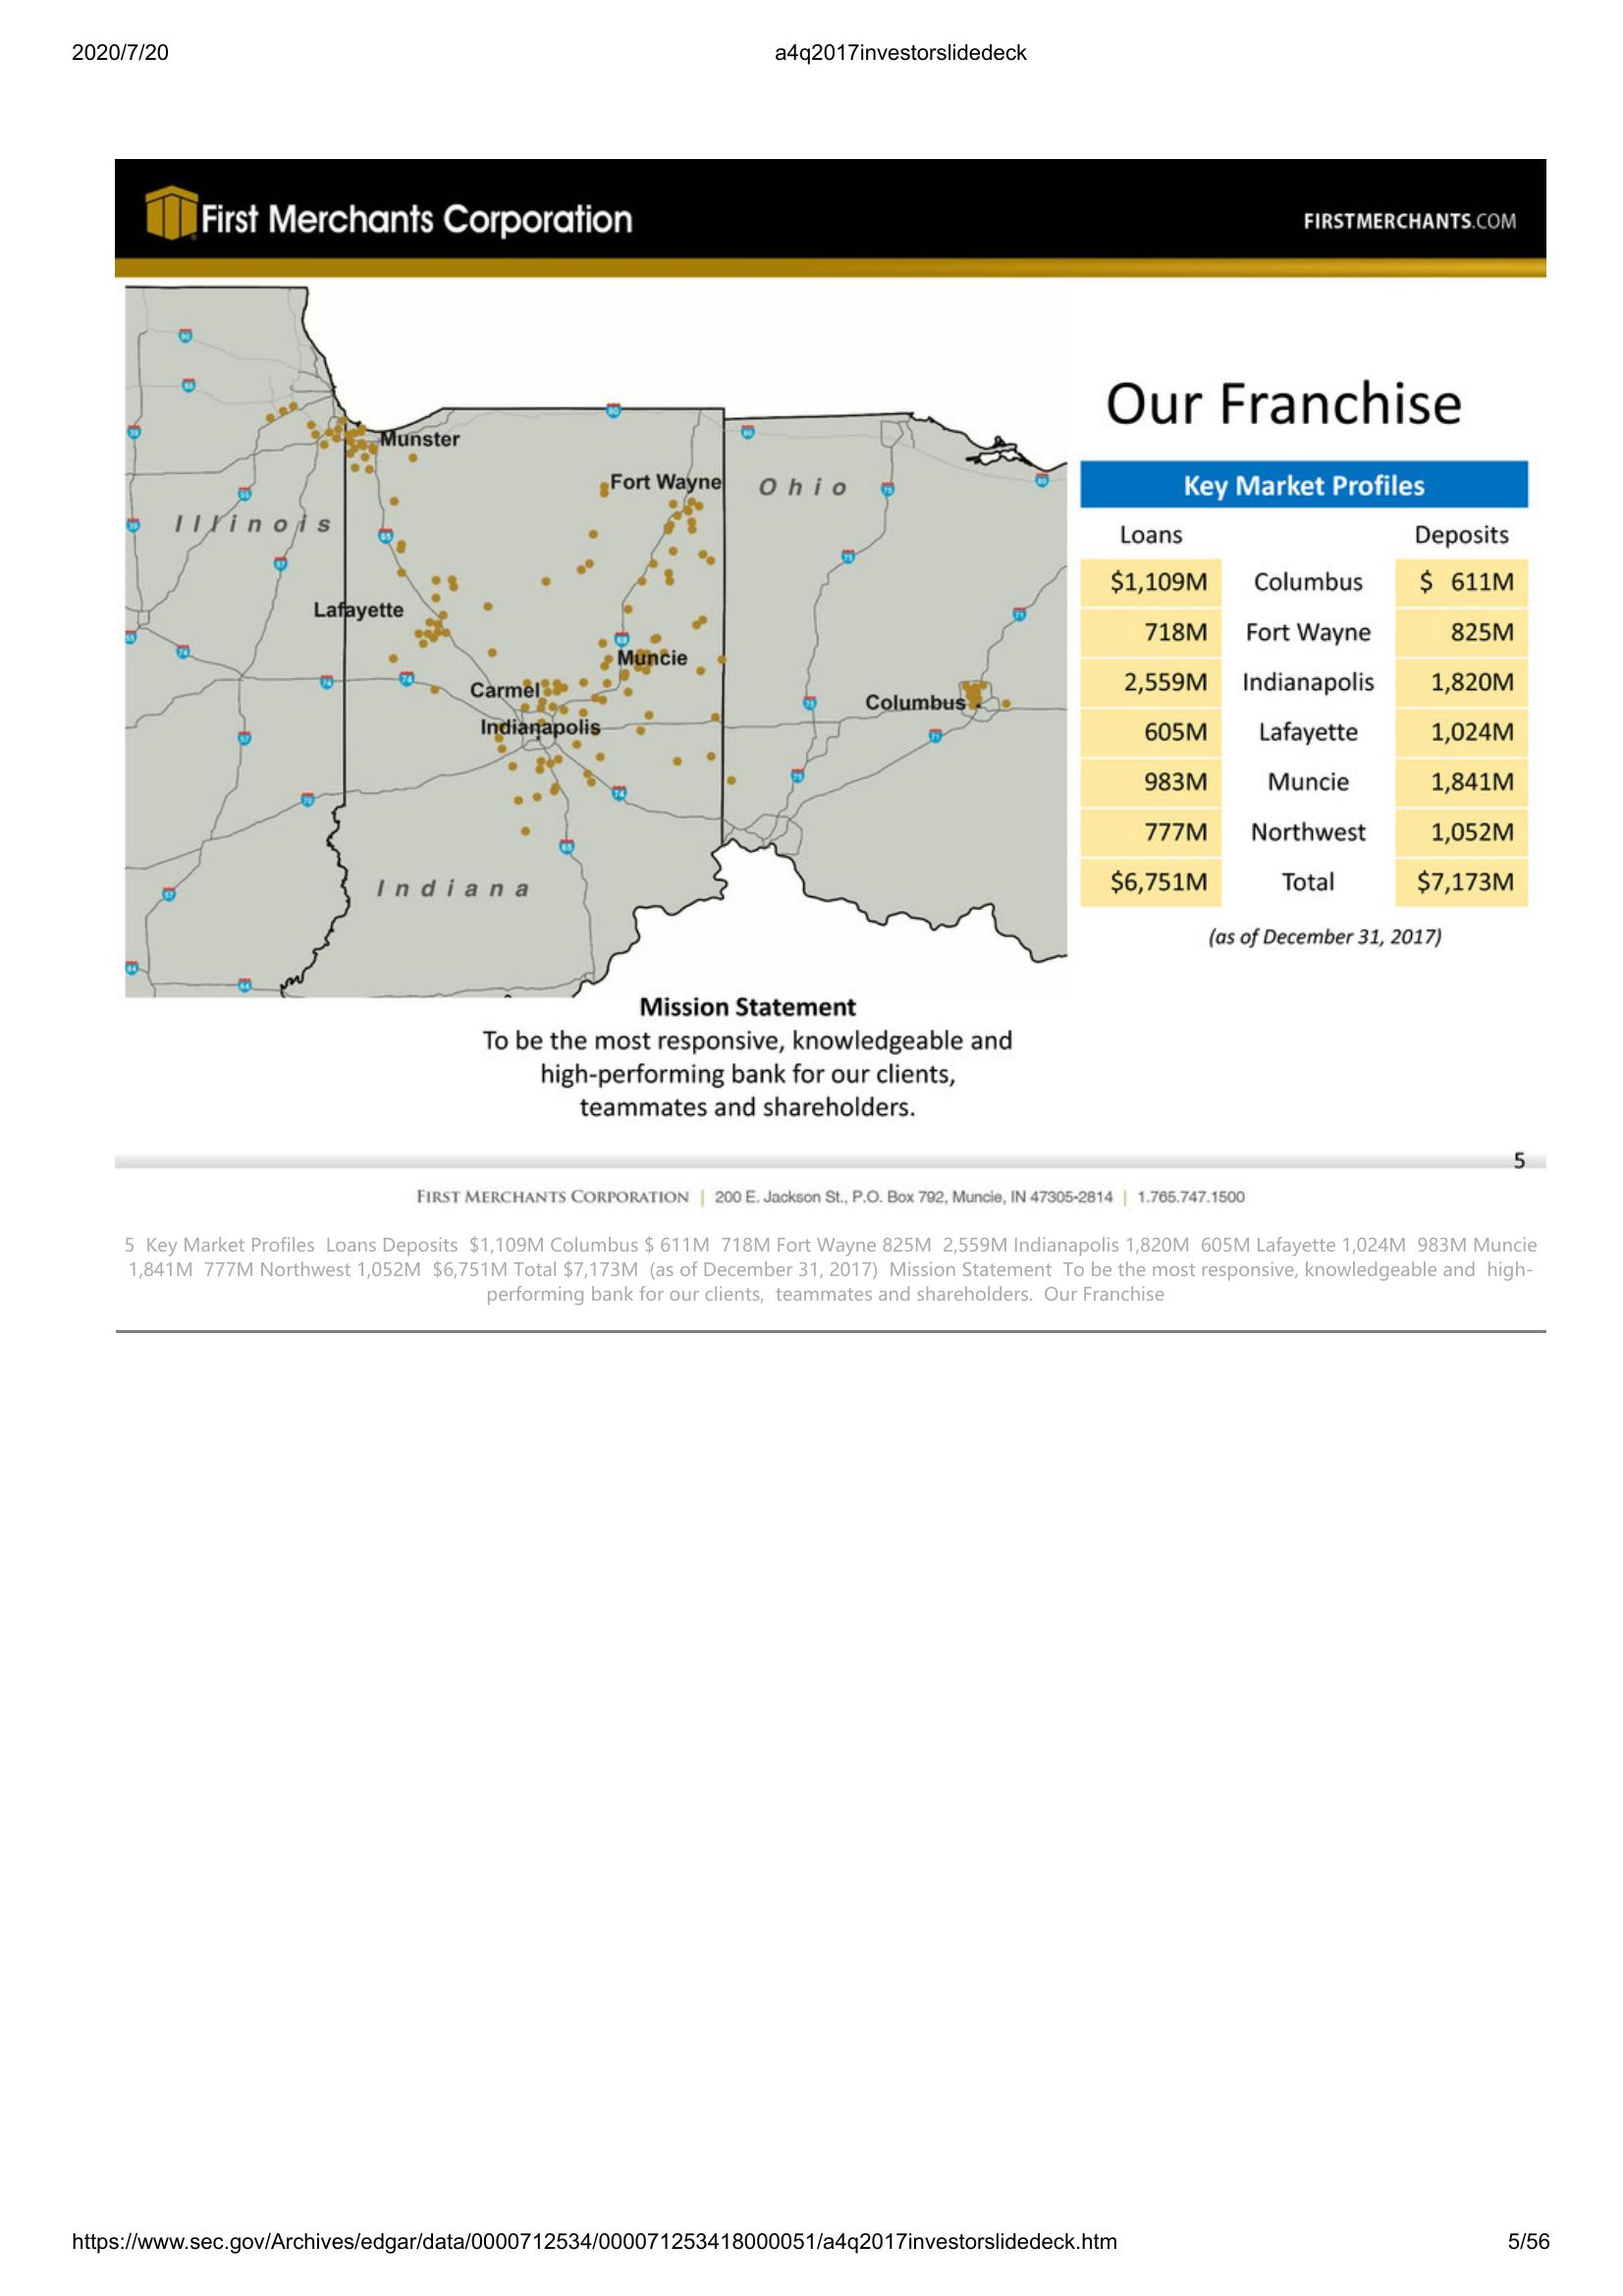table: (1077, 455, 1533, 909)
